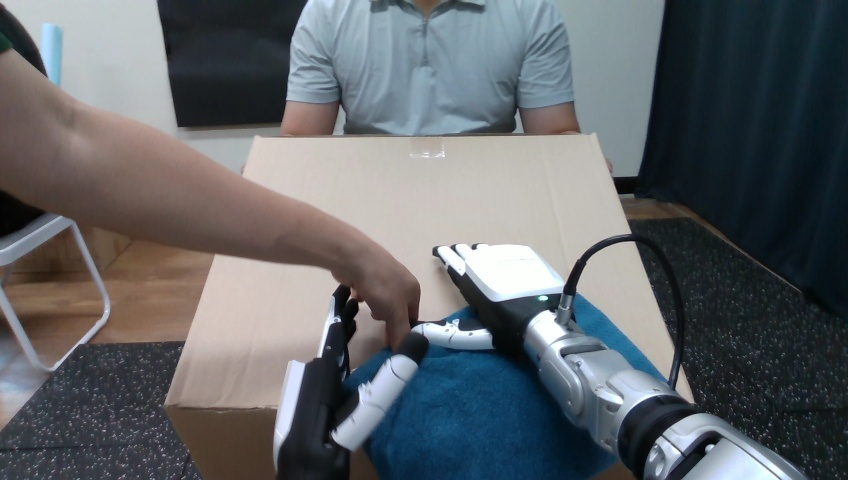left robot hand: (273, 285, 427, 479)
